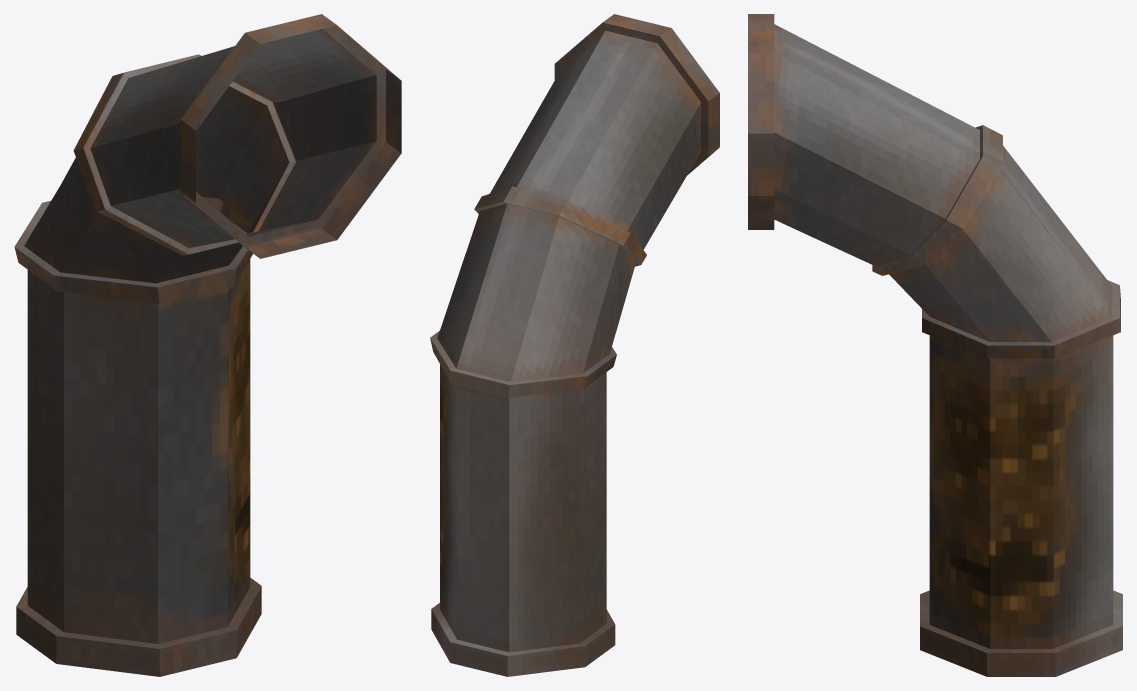
The model's file is izognutaya truba s koroziei.fbx.
3 views of the same model, side by side, from view 1: azimuth 30°, elevation 25°; view 2: azimuth 150°, elevation 25°; view 3: azimuth 270°, elevation 25° (orthographic). The views are drawn at different scales.
Visible parts, largest first — view 1: Cube.005; view 2: Cube.005; view 3: Cube.005.
Part boxes in pixels (x1=…): Cube.005: x1=14, y1=14, x2=401, y2=676; Cube.005: x1=430, y1=14, x2=719, y2=676; Cube.005: x1=748, y1=14, x2=1122, y2=676.
Size of the model in its own units: 68.74 by 220 by 124.
